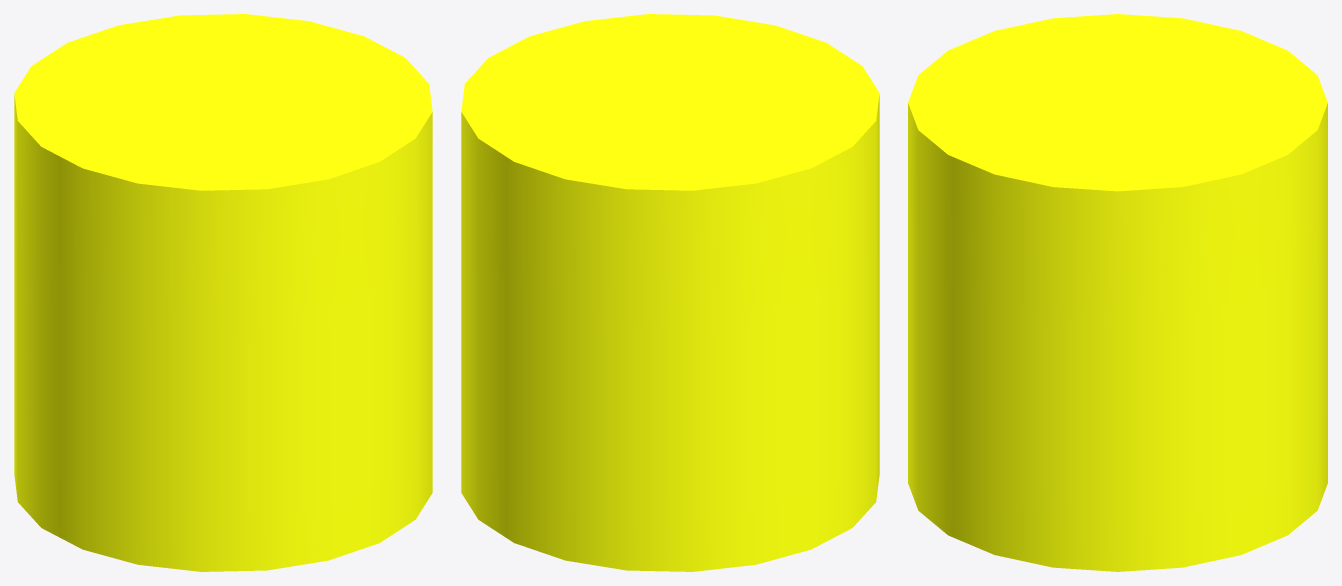
Rendered from c0acdfb8-ec8c-4a20-80a3-d1695e441256.glb.
3 views of the same model, side by side, from view 1: azimuth 30°, elevation 25°; view 2: azimuth 150°, elevation 25°; view 3: azimuth 270°, elevation 25° (orthographic).
Parts seen in each view (by area): view 1: BaseCylinder.003; view 2: BaseCylinder.003; view 3: BaseCylinder.003.
Boxes of the visible parts, x1,y1,x2,y2 form: BaseCylinder.003: (14,14,432,571); BaseCylinder.003: (461,14,879,571); BaseCylinder.003: (908,14,1327,571).
Size of what is drawn, in the model's own units: 0.7489 by 0.7489 by 0.7489.
Materials: 1 (1 with a texture image).
